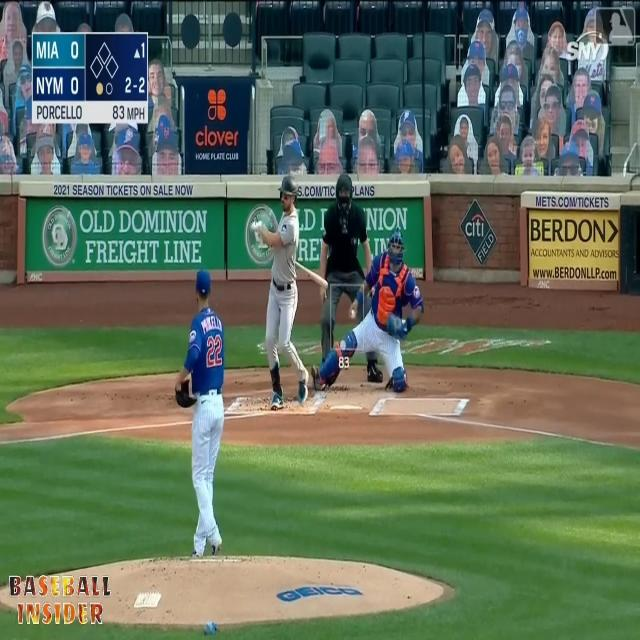baseball: (350, 304, 357, 322)
